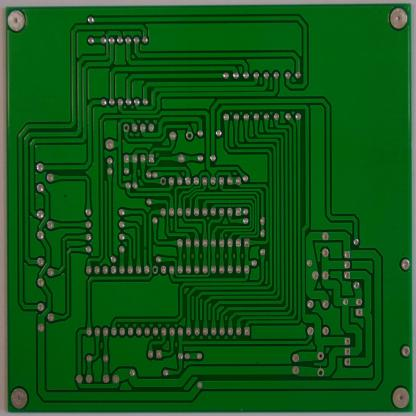missing_hole: (158, 176, 168, 188), (186, 130, 194, 142), (122, 123, 131, 133), (151, 264, 159, 275), (316, 368, 324, 378)
